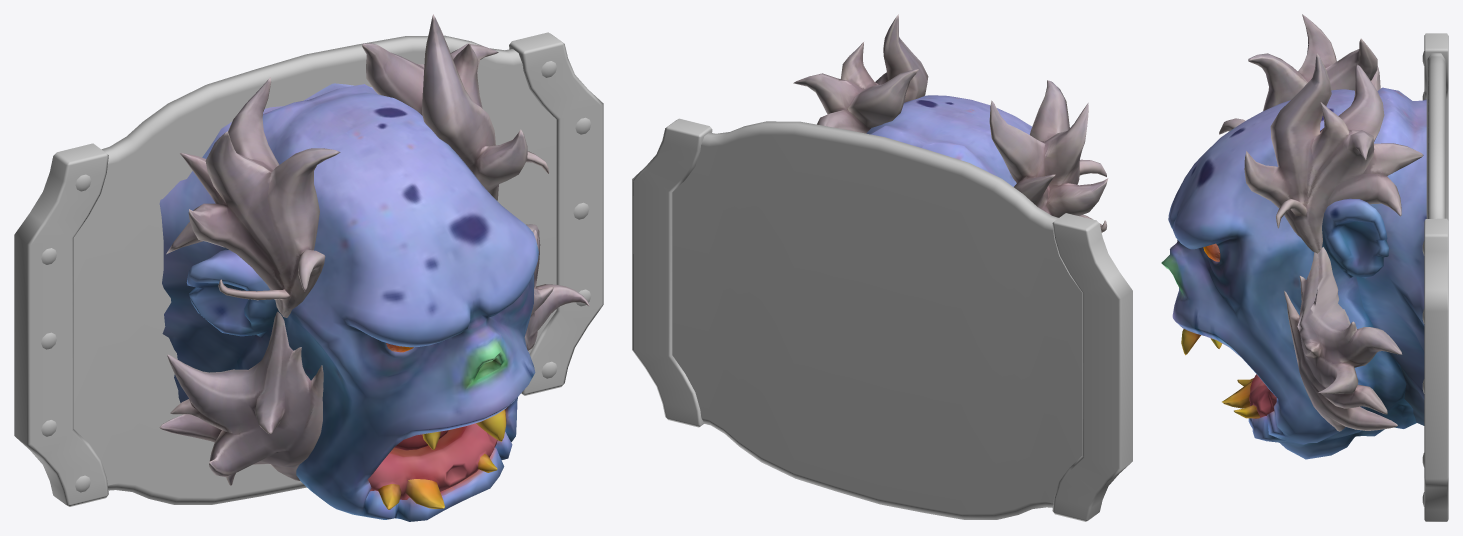
3 renders of one model, left to right at view 1: azimuth 30°, elevation 25°; view 2: azimuth 150°, elevation 25°; view 3: azimuth 270°, elevation 25°, orthographic. The views are drawn at different scales.
Parts seen in each view (by area): view 1: SM_Trophy_Plaque_ZogreHead_LOD0; view 2: SM_Trophy_Plaque_ZogreHead_LOD0; view 3: SM_Trophy_Plaque_ZogreHead_LOD0.
Boxes of the visible parts, bbox=[...] form: SM_Trophy_Plaque_ZogreHead_LOD0: bbox=[14, 14, 603, 521]; SM_Trophy_Plaque_ZogreHead_LOD0: bbox=[632, 14, 1132, 521]; SM_Trophy_Plaque_ZogreHead_LOD0: bbox=[1161, 14, 1448, 521].
Bounding box in the file's own units: 1.95 × 1.64 × 1.01.
